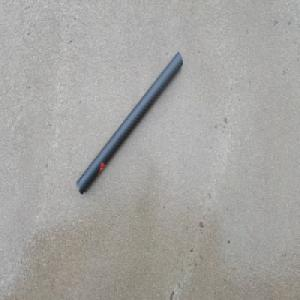LuggagePart: (76, 50, 183, 195)
